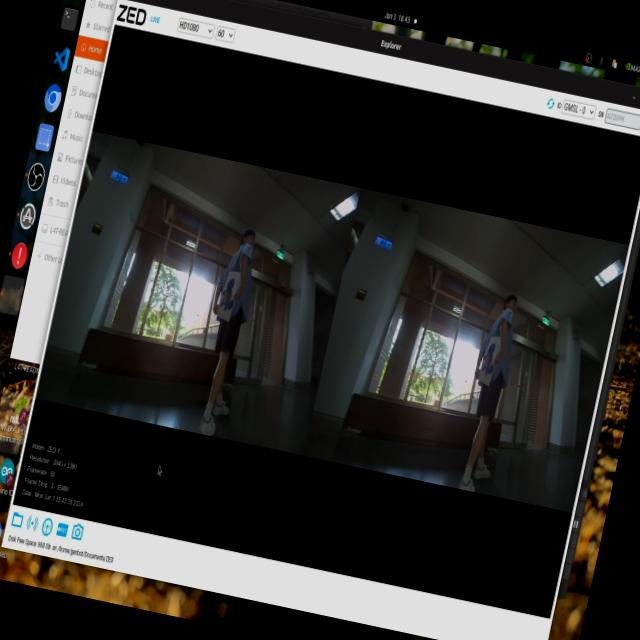blue: (474, 339, 500, 383), (218, 274, 240, 314)
